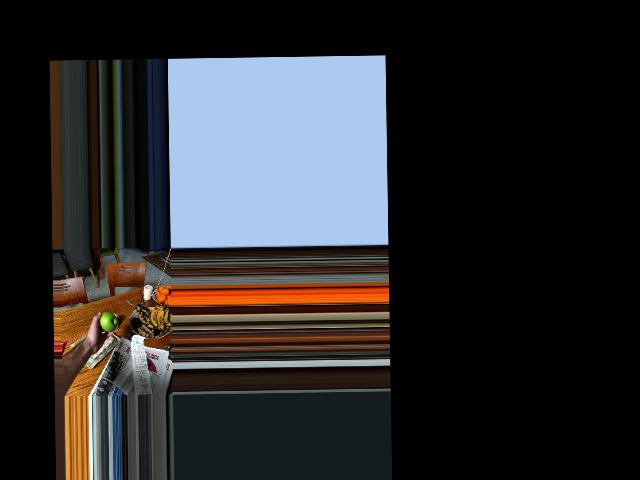apple: (95, 310, 116, 334)
